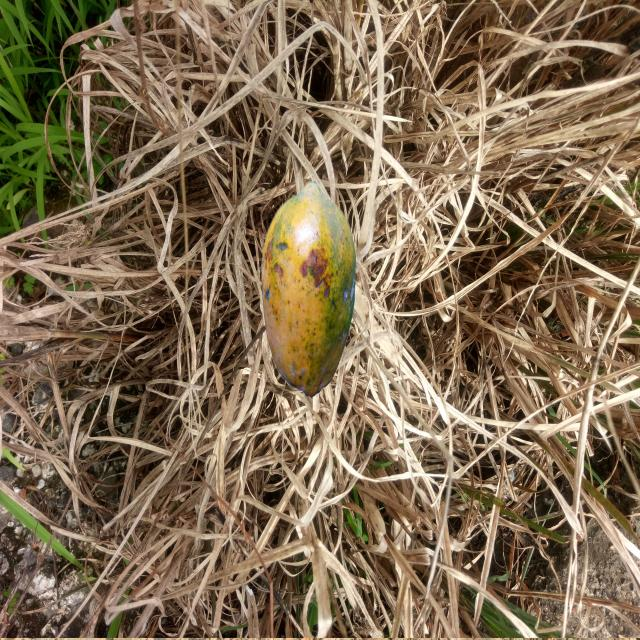Pepaya rippen: (253, 174, 364, 406)
